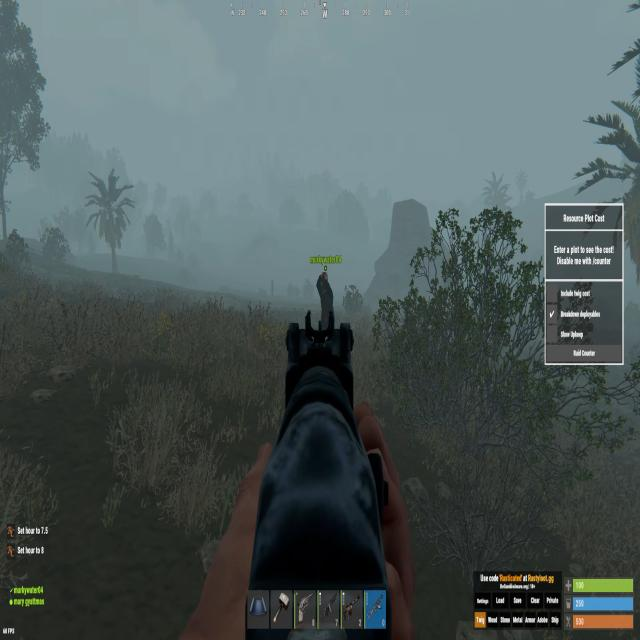Player: (317, 268, 335, 328)
